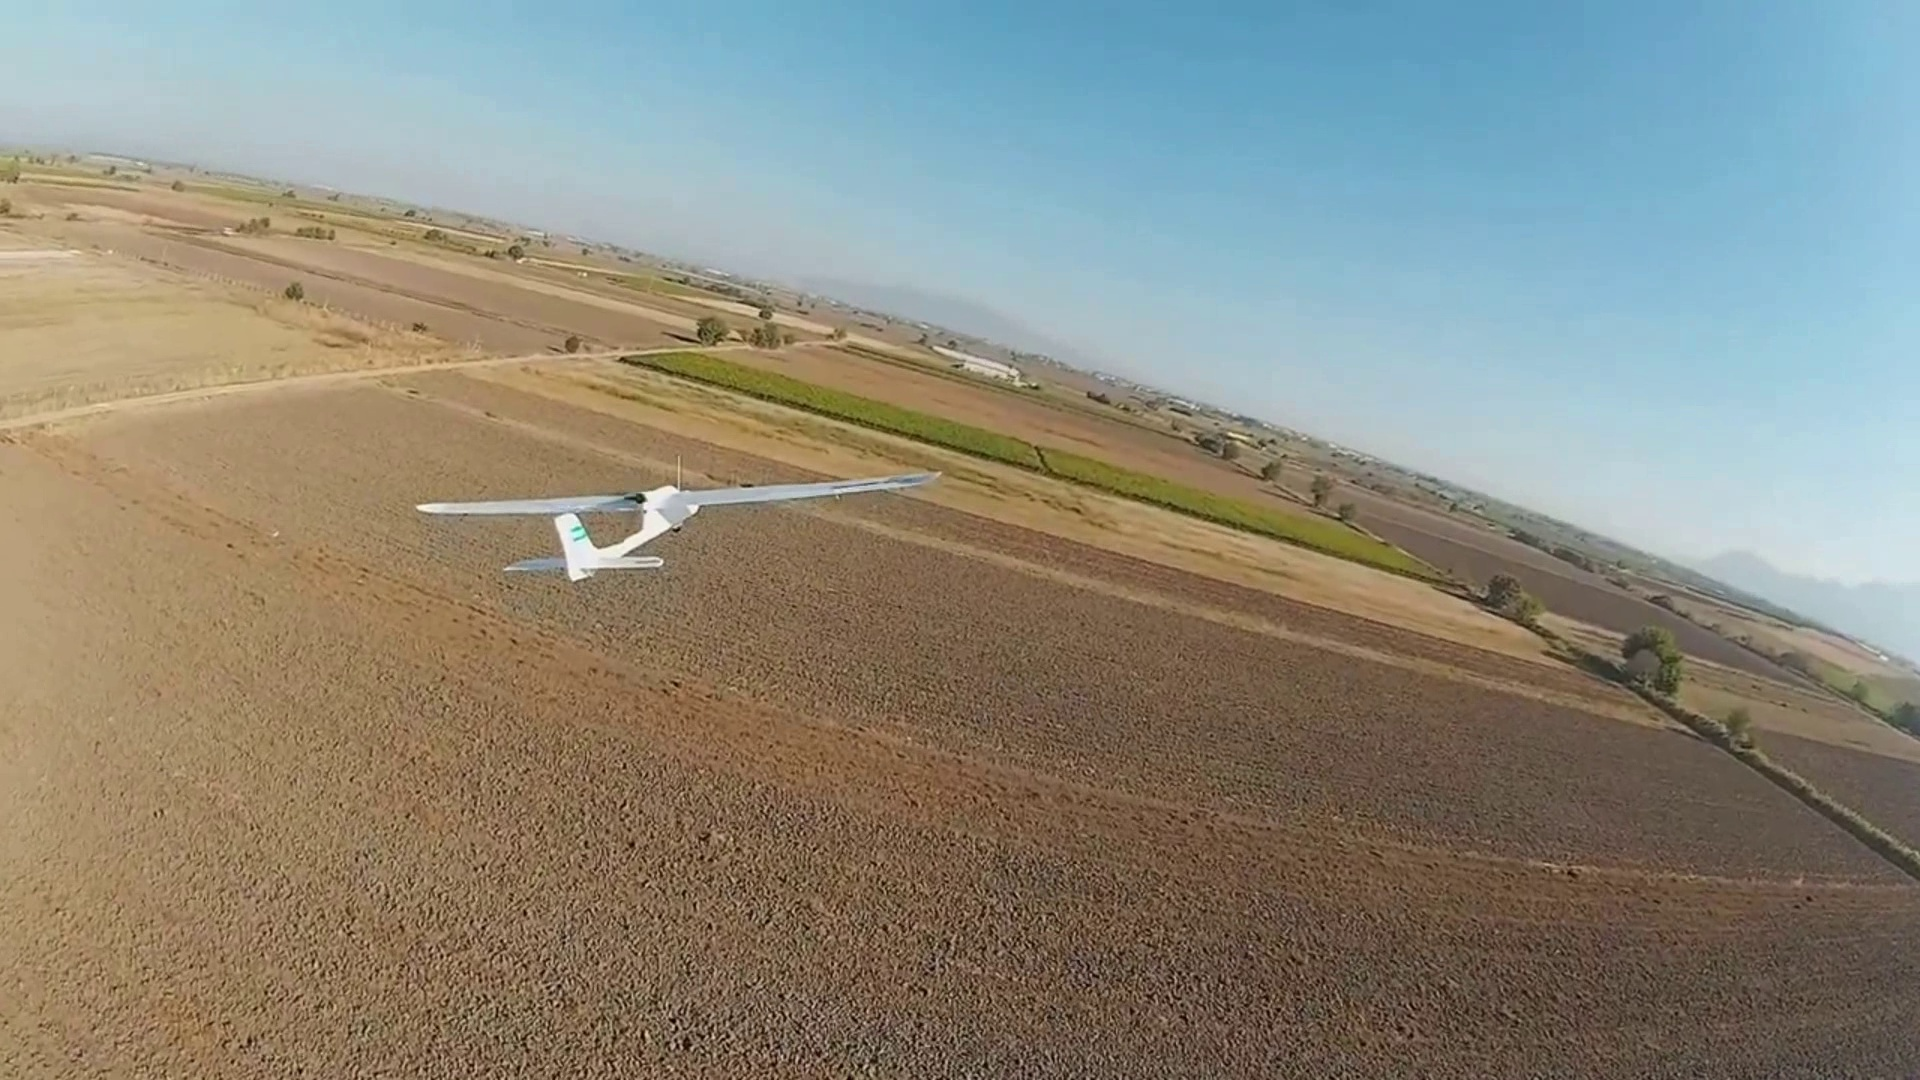airplane: (415, 475, 939, 585)
